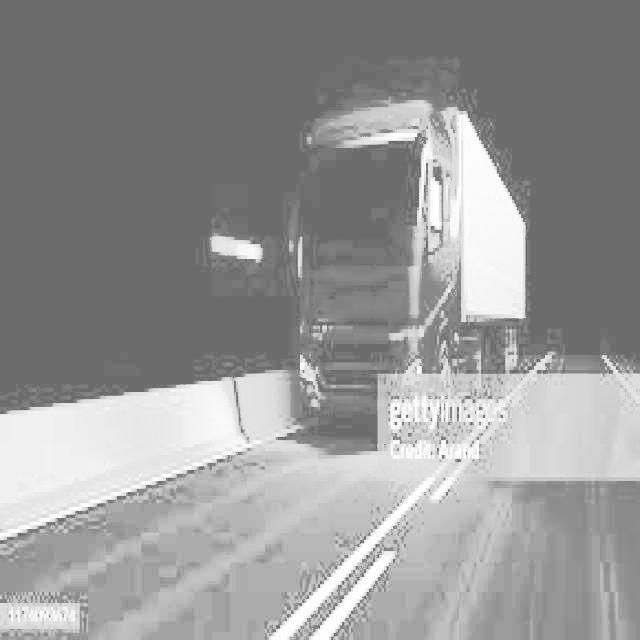Truck: (285, 89, 526, 426)
